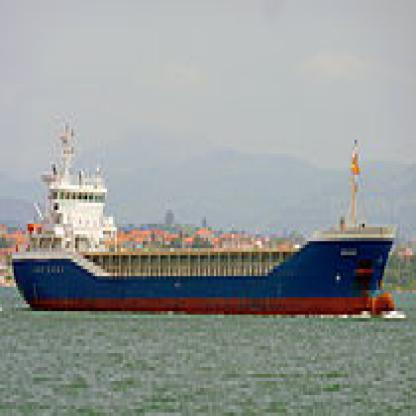Container Ship: (9, 112, 403, 317)
